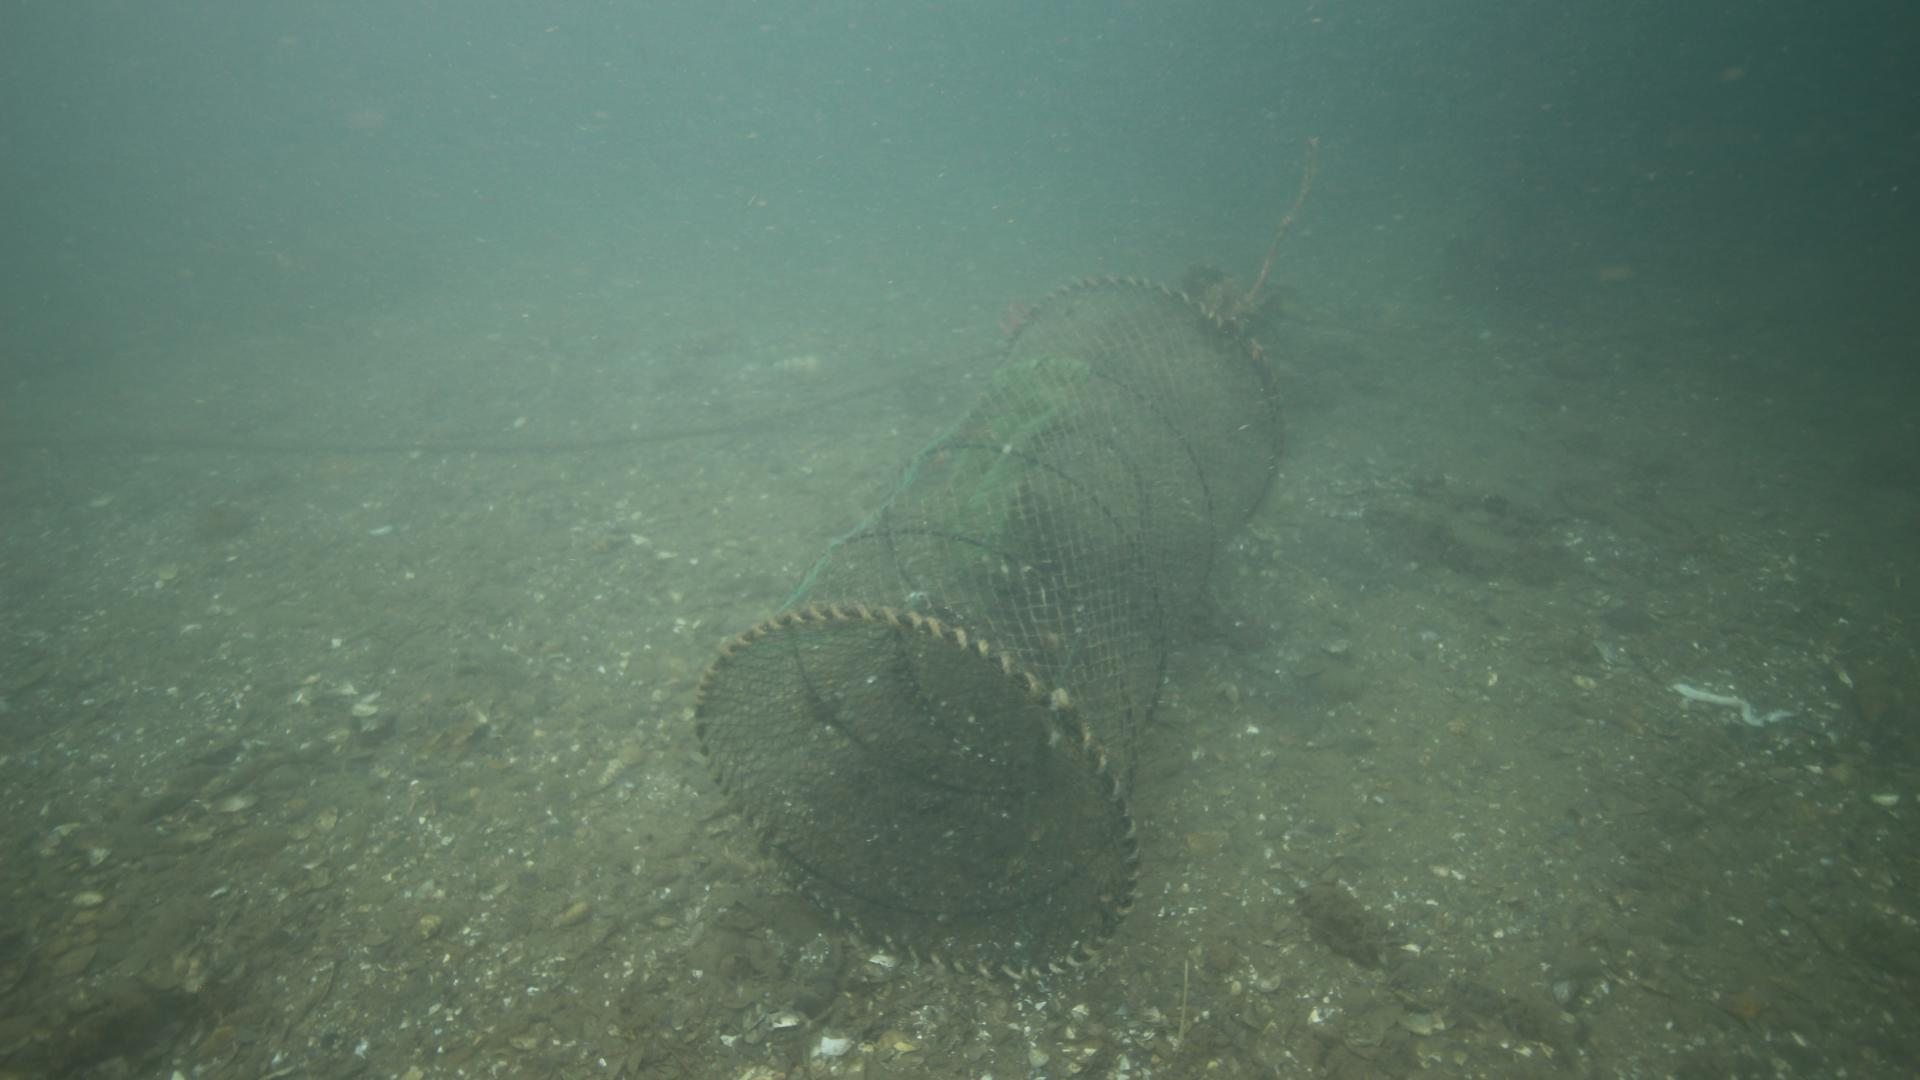rope: (1224, 146, 1327, 319)
spring fish trap: (692, 272, 1292, 992)
